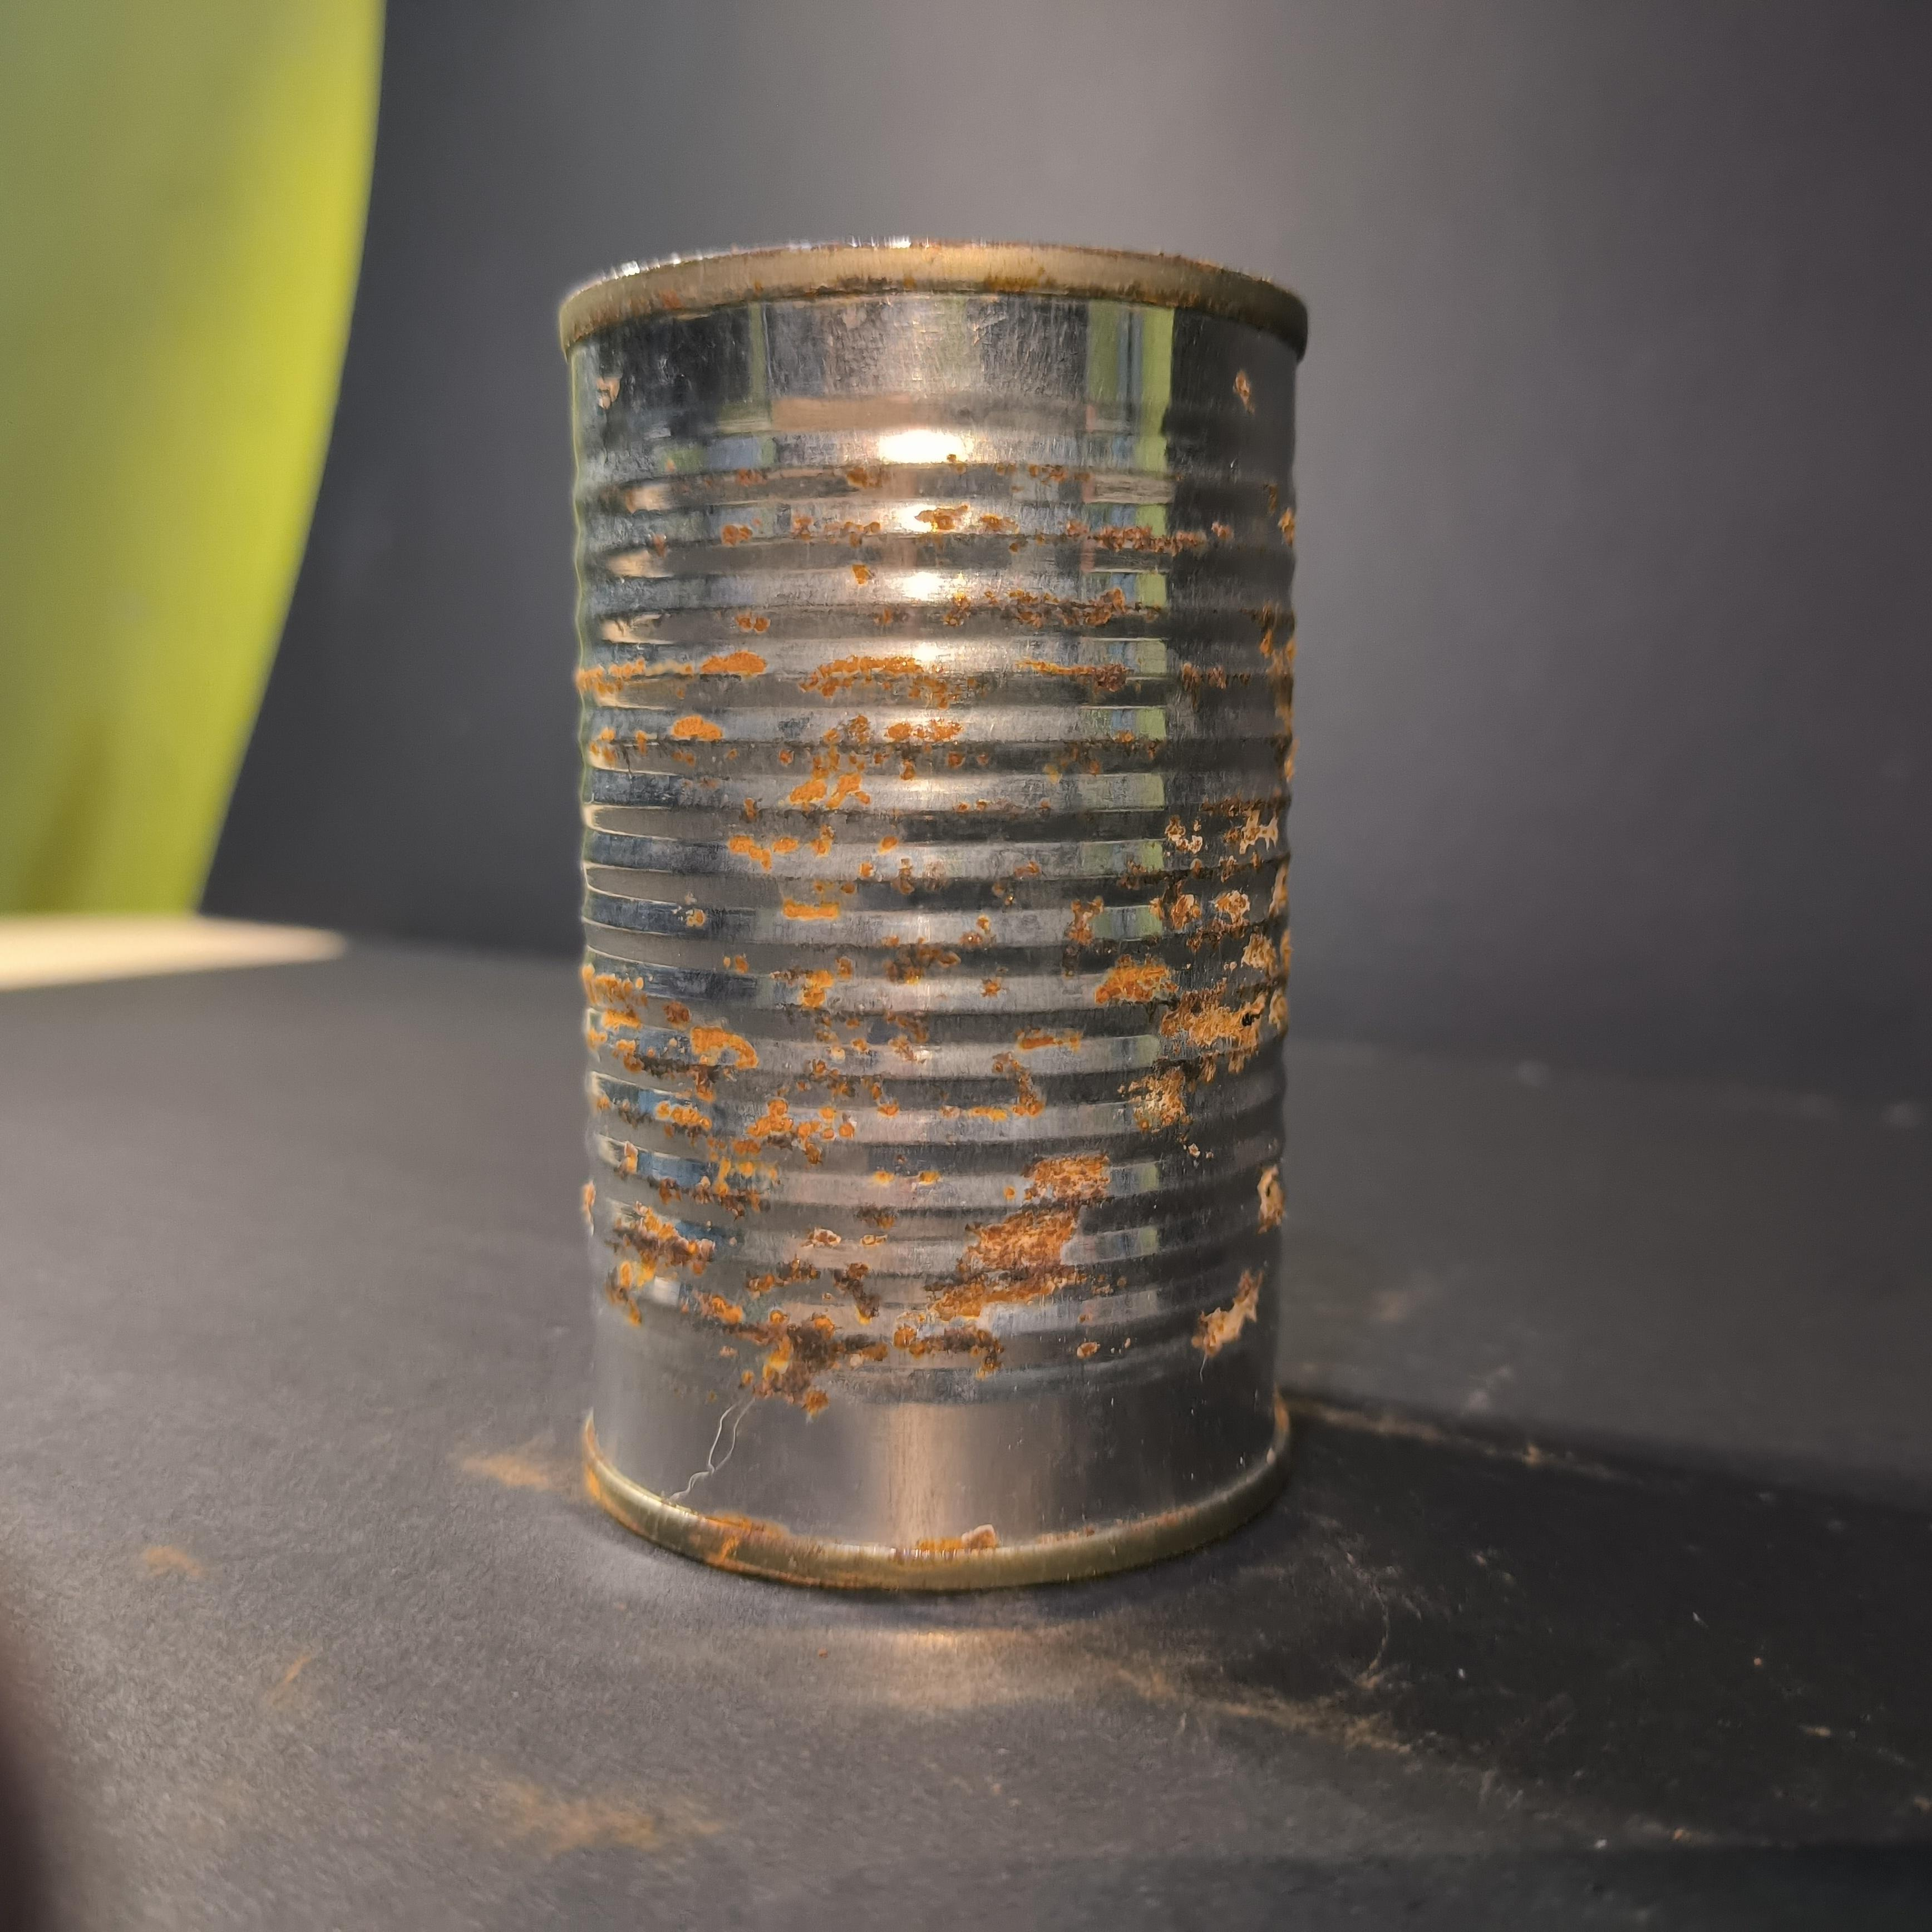Rusted: (529, 200, 1311, 1598)
